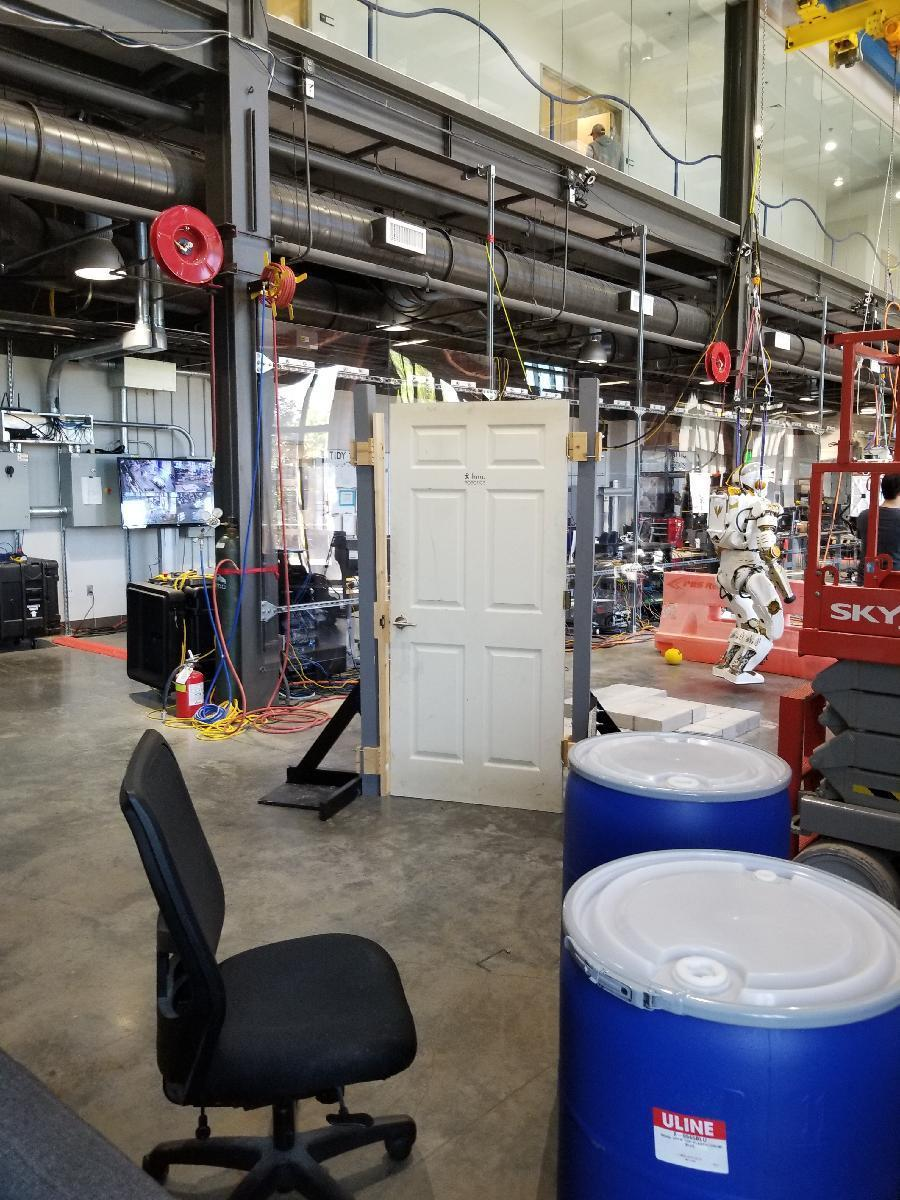door: (393, 400, 572, 806)
handle: (392, 615, 416, 630)
